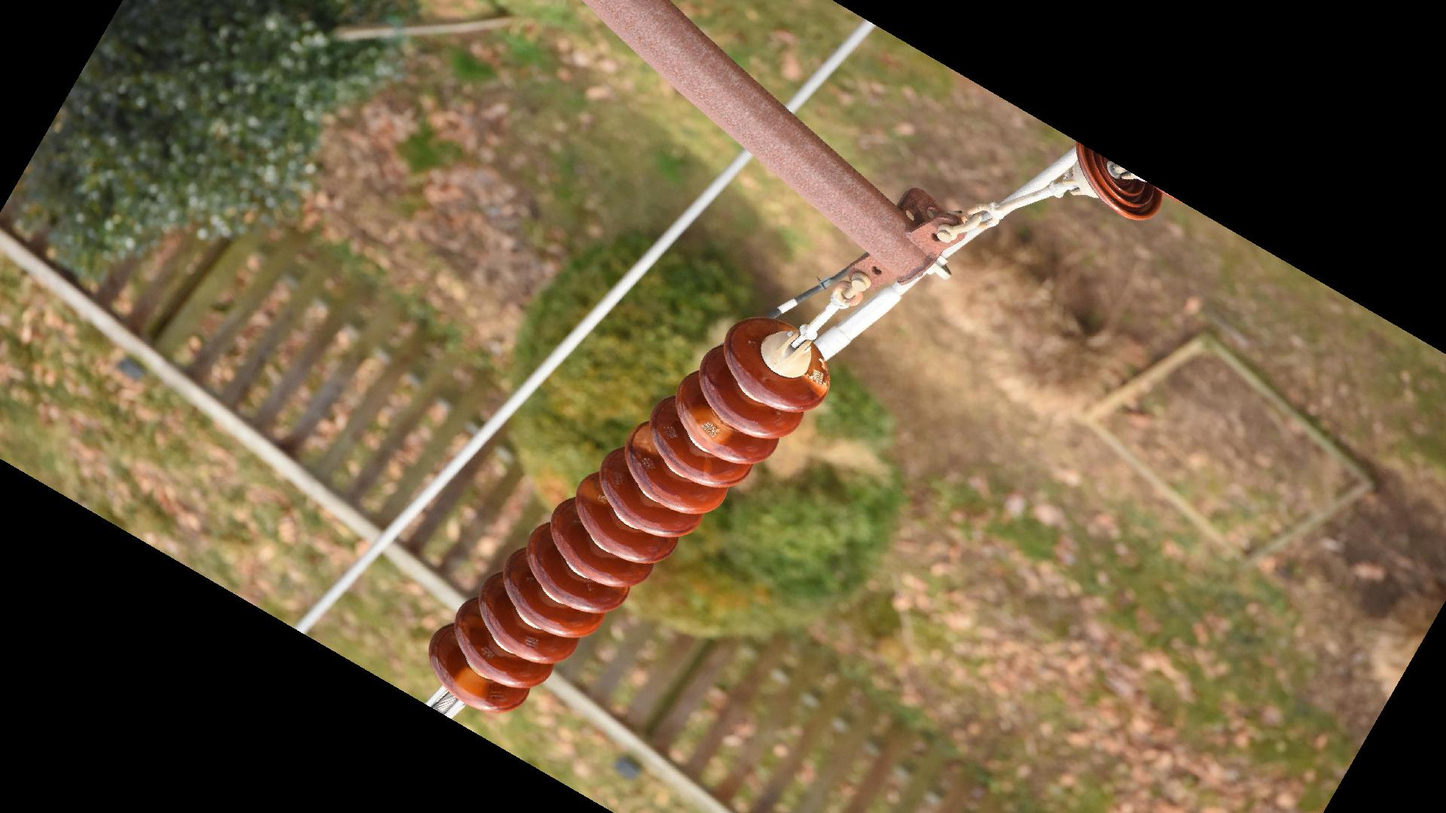insulator: (423, 312, 828, 718), (1066, 135, 1170, 227)
insulator_flashover: (684, 408, 733, 448), (450, 664, 490, 709), (801, 341, 832, 399), (627, 421, 664, 457), (575, 473, 607, 507)
